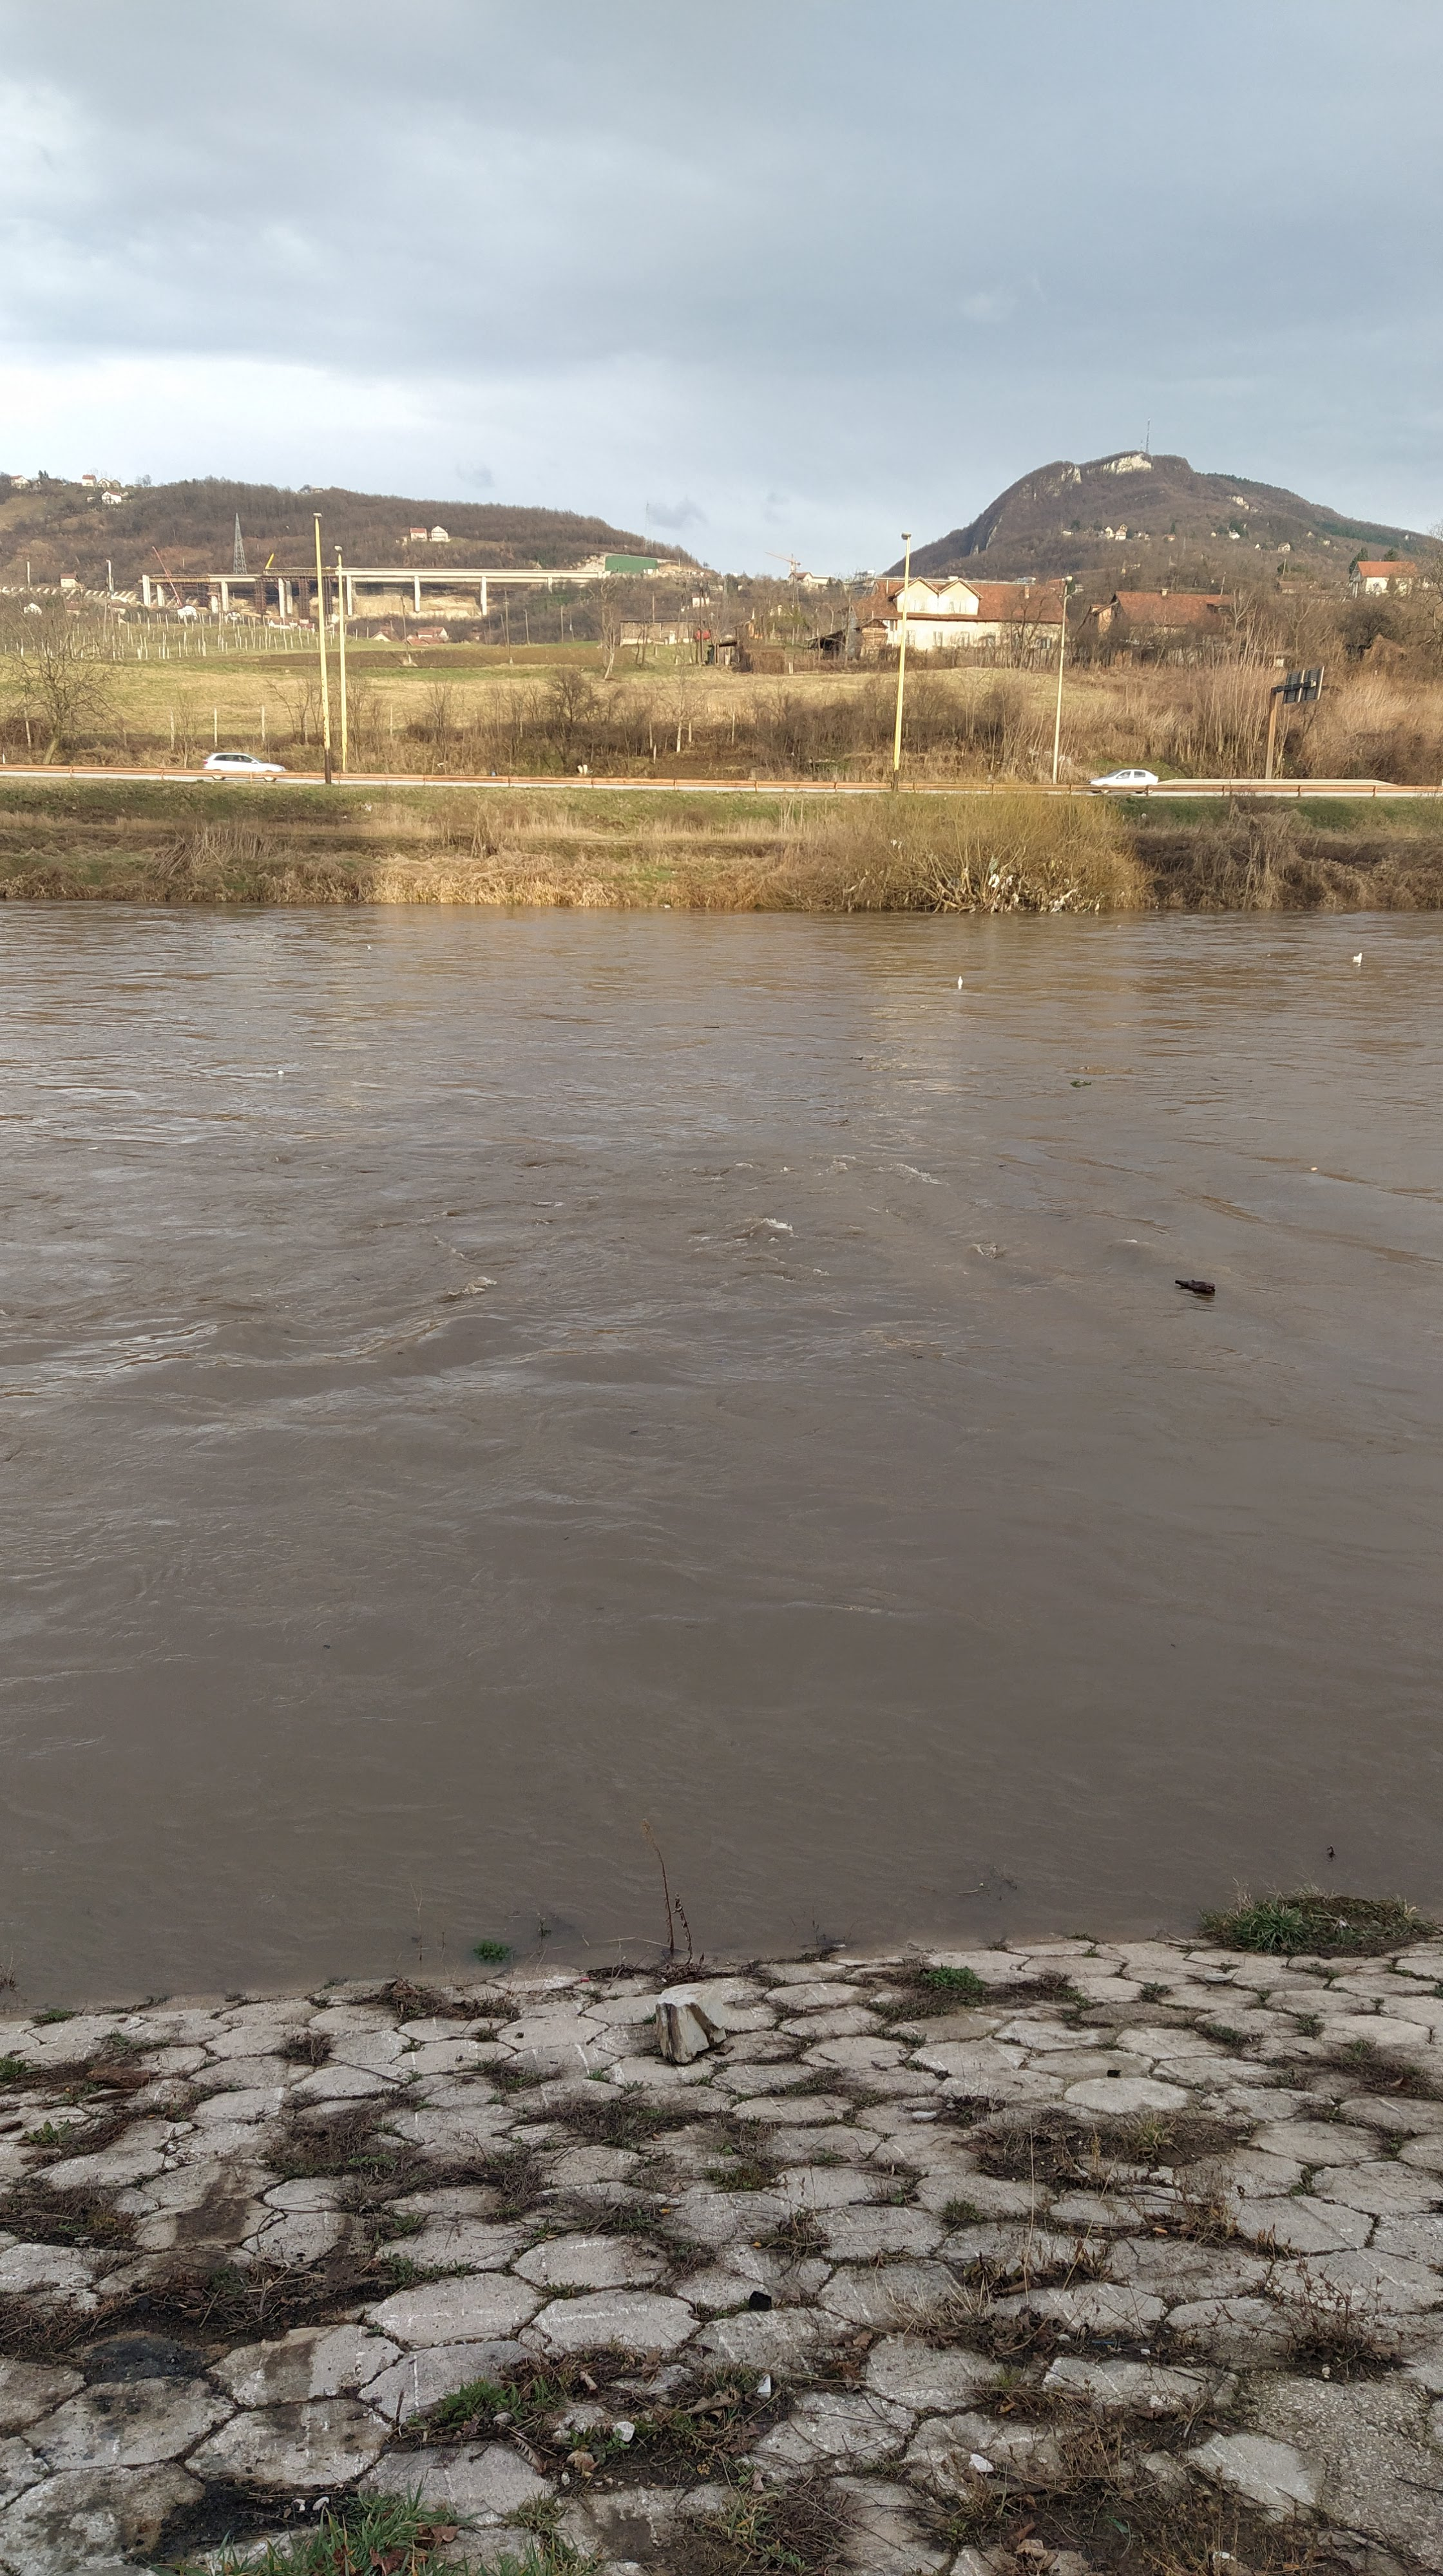Plastic Bottle: (1174, 1279, 1215, 1295), (1069, 1079, 1091, 1085), (367, 945, 370, 950), (278, 1070, 283, 1074)
